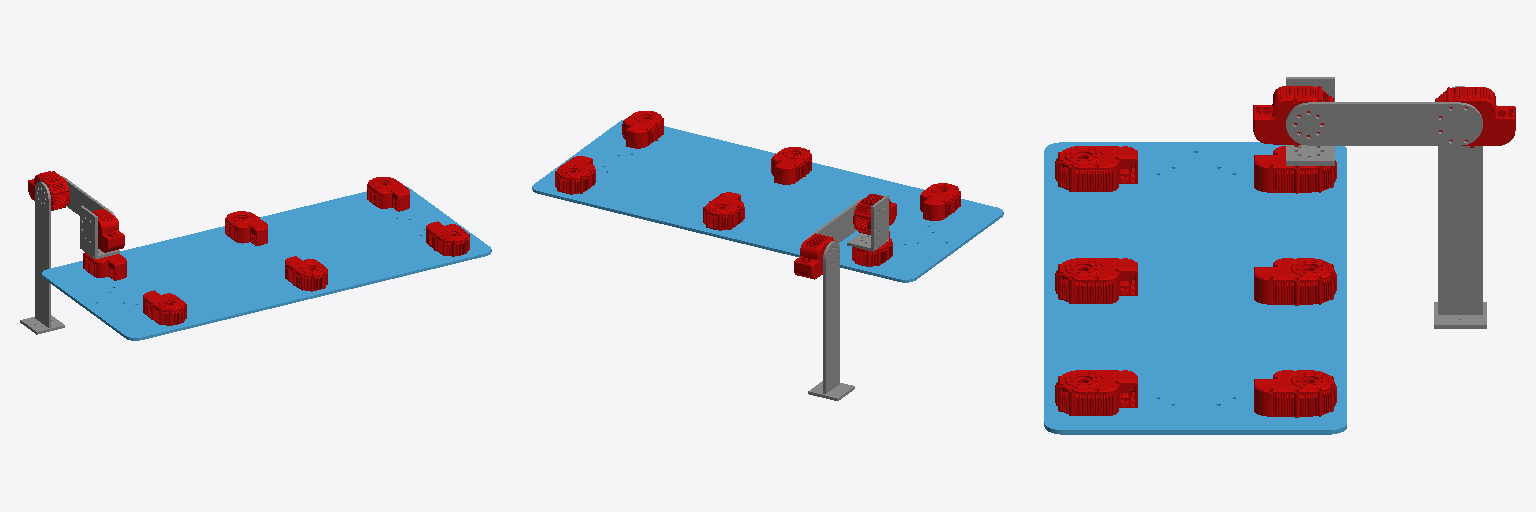
The robot description file, URDF, robot "hexapod":
<?xml version="1.0"?>

<robot name="hexapod">

  <material name="red">
    <color rgba=".82 0.06 0.06 1"/>
  </material>

  <material name="silver">
    <color rgba="0.6 0.6 0.6 1"/>
  </material>

  <link name="world">
  </link>

  <joint name="world_to_Base" type="fixed">
    <origin xyz="0 0 0" rpy="0 0 0" />
    <parent link="world"/>
    <child link="Base"/>
  </joint>

  <link name="Base">
    <inertial>
      <origin
        xyz="0 .200 0"
        rpy="1.57079632679 0 0" />
      <mass
        value="6.14101" />
      <inertia
        ixx="0.08151752649"
        ixy="0"
        ixz="0"
        iyy="0.49424148601"
        iyz="0"
        izz="0.41276522968" />
    </inertial>
    <visual>
      <origin
        xyz="0 .200 0"
        rpy="1.57079632679 0 0" />
      <geometry>
        <mesh
          filename="package://hexapod/urdf/stls/body.STL" scale=".001 .001 .001" />
      </geometry>
      <material
        name="">
        <color
          rgba="0.82421875 0.82421875 0.82421875" />
      </material>
    </visual>
    <collision>
      <origin
        xyz="0 .200 0"
        rpy="1.57079632679 0 0" />
      <geometry>
        <mesh
          filename="package://hexapod/urdf/stls/body.STL" scale=".001 .001 .001"/>
      </geometry>
    </collision>
  </link>

  <joint name="Base_to_Motor1" type="fixed">
    <origin xyz=".124 .149 0" rpy="0 0 1.57079632679" />
    <parent link="Base"/>
    <child link="Motor1"/>
    <axis xyz="0 0 1"/>
  </joint>

  <link name="Motor1">
    <visual>
      <origin
        xyz=".03705 .0365 0"
        rpy="0 0 3.14159265359" />
      <geometry>
        <mesh
          filename="package://hexapod/urdf/stls/X8Actuator.STL" scale=".001 .001 .001" />
      </geometry>
      <material
        name="red">
      </material>
    </visual>
    <collision>
      <origin
        xyz=".03705 .0365 0"
        rpy="0 0 3.14159265359" />
      <geometry>
        <mesh
          filename="package://hexapod/urdf/stls/X8Actuator.STL" scale=".001 .001 .001"/>
      </geometry>
    </collision>
  </link>

  <joint name="Base_to_Motor2" type="fixed">
    <origin xyz=".474 .149 0" rpy="0 0 1.57079632679" />
    <parent link="Base"/>
    <child link="Motor2"/>
    <axis xyz="0 0 1"/>
  </joint>

  <link name="Motor2">
    <visual>
      <origin
        xyz=".03705 .0365 0"
        rpy="0 0 3.14159265359" />
      <geometry>
        <mesh
          filename="package://hexapod/urdf/stls/X8Actuator.STL" scale=".001 .001 .001" />
      </geometry>
      <material
        name="red">
      </material>
    </visual>
    <collision>
      <origin
        xyz=".03705 .0365 0"
        rpy="0 0 3.14159265359" />
      <geometry>
        <mesh
          filename="package://hexapod/urdf/stls/X8Actuator.STL" scale=".001 .001 .001"/>
      </geometry>
    </collision>
  </link>

  <joint name="Base_to_Motor3" type="fixed">
    <origin xyz=".824 .149 0" rpy="0 0 1.57079632679" />
    <parent link="Base"/>
    <child link="Motor3"/>
    <axis xyz="0 0 1"/>
  </joint>

  <link name="Motor3">
    <visual>
      <origin
        xyz=".03705 .0365 0"
        rpy="0 0 3.14159265359" />
      <geometry>
        <mesh
          filename="package://hexapod/urdf/stls/X8Actuator.STL" scale=".001 .001 .001" />
      </geometry>
      <material
        name="red">
      </material>
    </visual>
    <collision>
      <origin
        xyz=".03705 .0365 0"
        rpy="0 0 3.14159265359" />
      <geometry>
        <mesh
          filename="package://hexapod/urdf/stls/X8Actuator.STL" scale=".001 .001 .001"/>
      </geometry>
    </collision>
  </link>

  <joint name="Base_to_Motor4" type="fixed">
    <origin xyz=".824 -.149 0" rpy="0 0 1.57079632679" />
    <parent link="Base"/>
    <child link="Motor4"/>
    <axis xyz="0 0 1"/>
  </joint>

  <link name="Motor4">
    <visual>
      <origin
        xyz="-.03705 -.0365 0"
        rpy="0 0 0" />
      <geometry>
        <mesh
          filename="package://hexapod/urdf/stls/X8Actuator.STL" scale=".001 .001 .001" />
      </geometry>
      <material
        name="red">
      </material>
    </visual>
    <collision>
      <origin
        xyz="-.03705 -.0365 0"
        rpy="0 0 0" />
      <geometry>
        <mesh
          filename="package://hexapod/urdf/stls/X8Actuator.STL" scale=".001 .001 .001"/>
      </geometry>
    </collision>
  </link>

  <joint name="Base_to_Motor5" type="fixed">
    <origin xyz=".474 -.149 0" rpy="0 0 1.57079632679" />
    <parent link="Base"/>
    <child link="Motor5"/>
    <axis xyz="0 0 1"/>
  </joint>

  <link name="Motor5">
    <visual>
      <origin
        xyz="-.03705 -.0365 0"
        rpy="0 0 0" />
      <geometry>
        <mesh
          filename="package://hexapod/urdf/stls/X8Actuator.STL" scale=".001 .001 .001" />
      </geometry>
      <material
        name="red">
      </material>
    </visual>
    <collision>
      <origin
        xyz="-.03705 -.0365 0"
        rpy="0 0 0" />
      <geometry>
        <mesh
          filename="package://hexapod/urdf/stls/X8Actuator.STL" scale=".001 .001 .001"/>
      </geometry>
    </collision>
  </link>

  <joint name="Base_to_Motor6" type="fixed">
    <origin xyz=".124 -.149 0" rpy="0 0 1.57079632679" />
    <parent link="Base"/>
    <child link="Motor6"/>
    <axis xyz="0 0 1"/>
  </joint>

  <link name="Motor6">
    <visual>
      <origin
        xyz="-.03705 -.0365 0"
        rpy="0 0 0" />
      <geometry>
        <mesh
          filename="package://hexapod/urdf/stls/X8Actuator.STL" scale=".001 .001 .001" />
      </geometry>
      <material
        name="red">
      </material>
    </visual>
    <collision>
      <origin
        xyz="-.03705 -.0365 0"
        rpy="0 0 0" />
      <geometry>
        <mesh
          filename="package://hexapod/urdf/stls/X8Actuator.STL" scale=".001 .001 .001"/>
      </geometry>
    </collision>
  </link>

  <joint name="Motor1_to_JointPlate21" type="continuous">
    <origin xyz="0 0 .05145" rpy="0 0 3.14159265359" />
    <parent link="Motor1"/>
    <child link="JointPlate21"/>
    <axis xyz="0 0 1"/>
  </joint>

  <link name="JointPlate21">
    <visual>
      <origin
        xyz="-.0350 -.02255 -.00635"
        rpy="0 0 0" />
      <geometry>
        <mesh
          filename="package://hexapod/urdf/stls/jointPlate2.STL" scale=".001 .001 .001" />
      </geometry>
      <material
        name="silver">
      </material>
    </visual>
    <collision>
      <origin
        xyz="-.035 -.02255 -.00635"
        rpy="0 0 0" />
      <geometry>
        <mesh
          filename="package://hexapod/urdf/stls/jointPlate2.STL" scale=".001 .001 .001"/>
      </geometry>
    </collision>
  </link>

  <joint name="JointPlate21_to_JointPlate11" type="fixed">
    <origin xyz="0 0 .093825" rpy="0 3.14159265359 0" />
    <parent link="JointPlate21"/>
    <child link="JointPlate11"/>
    <axis xyz="0 0 1"/>
  </joint>

  <link name="JointPlate11">
    <visual>
      <origin
        xyz="-.03 -.02890 0"
        rpy="0 0 0" />
      <geometry>
        <mesh
          filename="package://hexapod/urdf/stls/jointPlate1.STL" scale=".001 .001 .001" />
      </geometry>
      <material
        name="silver">
      </material>
    </visual>
    <collision>
      <origin
        xyz="-.03 -.02890 0"
        rpy="0 0 0" />
      <geometry>
        <mesh
          filename="package://hexapod/urdf/stls/jointPlate1.STL" scale=".001 .001 .001"/>
      </geometry>
    </collision>
  </link>

  <joint name="JointPlate11_to_FemurMotor" type="fixed">
    <origin xyz="0 0 .0425" rpy="-1.57079632679 3.14159265359 0" />
    <parent link="JointPlate11"/>
    <child link="FemurMotor"/>
    <axis xyz="0 0 1"/>
  </joint>

  <link name="FemurMotor">
    <visual>
      <origin
        xyz="-.0365 -.03705 -.02255"
        rpy="0 0 0" />
      <geometry>
        <mesh
          filename="package://hexapod/urdf/stls/X8Actuator.STL" scale=".001 .001 .001" />
      </geometry>
      <material
        name="red">
      </material>
    </visual>
    <collision>
      <origin
        xyz="-.0365 -.03705 -.02890"
        rpy="0 0 0" />
      <geometry>
        <mesh
          filename="package://hexapod/urdf/stls/X8Actuator.STL" scale=".001 .001 .001"/>
      </geometry>
    </collision>
  </link>

  <joint name="FemurMotor_to_LegUpper1" type="continuous">
    <origin xyz="0 0 .02275" rpy="0 -1.57079632679 -3.14159265359" />
    <parent link="FemurMotor"/>
    <child link="LegUpper1"/>
    <axis xyz="1 0 0"/>
  </joint>

  <link name="LegUpper1">
    <visual>
      <origin
        xyz="0 -.03 -.230"
        rpy="0 0 0" />
      <geometry>
        <mesh
          filename="package://hexapod/urdf/stls/legUpper.STL" scale=".001 .001 .001" />
      </geometry>
      <material
        name="silver">
      </material>
    </visual>
    <collision>
      <origin
        xyz="0 -.03 -.230"
        rpy="0 0 0" />
      <geometry>
        <mesh
          filename="package://hexapod/urdf/stls/legUpper.STL" scale=".001 .001 .001"/>
      </geometry>
    </collision>
  </link>

  <joint name="LegUpper1_to_TibiaMotor1" type="fixed">
    <origin xyz="0 0 -.200" rpy="0 1.57079632679 -3.14159265359" />
    <parent link="LegUpper1"/>
    <child link="TibiaMotor1"/>
    <axis xyz="0 0 1"/>
  </joint>

  <link name="TibiaMotor1">
    <visual>
      <origin
        xyz="-.03705 -.0365 0"
        rpy="0 0 0" />
      <geometry>
        <mesh
          filename="package://hexapod/urdf/stls/X8Actuator.STL" scale=".001 .001 .001" />
      </geometry>
      <material
        name="red">
      </material>
    </visual>
    <collision>
      <origin
        xyz="-.03705 -.0365 0"
        rpy="0 0 0" />
      <geometry>
        <mesh
          filename="package://hexapod/urdf/stls/X8Actuator.STL" scale=".001 .001 .001"/>
      </geometry>
    </collision>
  </link>

  <joint name="TibiaMotor1_to_LegLower1" type="continuous">
    <origin xyz="0 0 .05145" rpy="0 1.57079632679 1.57079632679" />
    <parent link="TibiaMotor1"/>
    <child link="LegLower1"/>
    <axis xyz="1 0 0"/>
  </joint>

  <link name="LegLower1">
    <visual>
      <origin
        xyz="0 .03 .3"
        rpy="3.14159265359 0 0" />
      <geometry>
        <mesh
          filename="package://hexapod/urdf/stls/legLower.STL" scale=".001 .001 .001" />
      </geometry>
      <material
        name="silver">
      </material>
    </visual>
    <collision>
      <origin
        xyz="0 .03 .3"
        rpy="3.14159265359 0 0" />
      <geometry>
        <mesh
          filename="package://hexapod/urdf/stls/legLower.STL" scale=".001 .001 .001"/>
      </geometry>
    </collision>
  </link>

  <joint name="LegLower1_to_Foot1" type="fixed">
    <origin xyz="0 0 .3" rpy="0 3.14159265359 0" />
    <parent link="LegLower1"/>
    <child link="Foot1"/>
    <axis xyz="0 0 1"/>
  </joint>

  <link name="Foot1">
    <visual>
      <origin
        xyz="-.038175 .035 -.00635"
        rpy="1.57079632679 0 0" />
      <geometry>
        <mesh
          filename="package://hexapod/urdf/stls/foot.STL" scale=".001 .001 .001" />
      </geometry>
      <material
        name="silver">
      </material>
    </visual>
    <collision>
      <origin
        xyz="-.038175 .035 -.00635"
        rpy="0 0 0" />
      <geometry>
        <mesh
          filename="package://hexapod/urdf/stls/foot.STL" scale=".001 .001 .001"/>
      </geometry>
    </collision>
  </link>


</robot>

--- What the picture shows (computed from the rendered views, not written in the file) ---
The picture shows the robot from 3 angles, left to right: view 1: azimuth 30°, elevation 25°; view 2: azimuth 150°, elevation 25°; view 3: azimuth 270°, elevation 25°; orthographic projection.
Robot: hexapod — 15 links, 14 joints (3 continuous, 11 fixed); root link world; default pose: every joint at zero.
Links seen in each view (by area): view 1: Base, LegLower1, Motor4, Motor6, Motor2, Motor5, Motor3, FemurMotor, TibiaMotor1, Motor1, JointPlate11, LegUpper1; view 2: Base, LegLower1, Motor2, Motor4, Motor3, Motor5, Motor6, TibiaMotor1, JointPlate11, LegUpper1, FemurMotor, Motor1; view 3: Base, LegUpper1, LegLower1, Motor2, Motor3, Motor5, Motor4, Motor6, Motor1, FemurMotor, TibiaMotor1, JointPlate21 (+2 smaller).
Link boxes in pixels (x1,y1,x2,y2): Base: (42, 185, 491, 340); LegLower1: (35, 181, 50, 327); Motor4: (426, 221, 469, 256); Motor6: (143, 290, 186, 325); Motor2: (225, 211, 267, 245); Motor5: (285, 256, 327, 291); Motor3: (367, 177, 409, 211); FemurMotor: (92, 209, 124, 252); TibiaMotor1: (28, 171, 69, 210); Motor1: (83, 252, 126, 280); JointPlate11: (80, 205, 97, 258); LegUpper1: (61, 176, 115, 216); Base: (532, 119, 1003, 282); LegLower1: (823, 241, 839, 393); Motor2: (703, 192, 744, 230); Motor4: (622, 111, 663, 148); Motor3: (555, 156, 595, 194); Motor5: (771, 147, 811, 184); Motor6: (920, 183, 960, 220); TibiaMotor1: (794, 233, 836, 279); JointPlate11: (871, 195, 888, 251); LegUpper1: (806, 200, 860, 242); FemurMotor: (853, 194, 896, 234); Motor1: (852, 231, 892, 266); Base: (1044, 142, 1346, 434); LegUpper1: (1286, 102, 1482, 145); LegLower1: (1438, 86, 1482, 314); Motor2: (1254, 258, 1336, 305); Motor3: (1254, 370, 1336, 417); Motor5: (1055, 258, 1137, 303); Motor4: (1055, 370, 1137, 415); Motor6: (1055, 146, 1137, 191); Motor1: (1254, 146, 1336, 193); FemurMotor: (1253, 86, 1333, 146); TibiaMotor1: (1435, 87, 1515, 147); JointPlate21: (1286, 145, 1334, 165).
Size in the robot's own frame: 0.9 by 0.622 by 0.3489 metres.
Meshes: 7 distinct files referenced, 14 mesh visuals loaded (7 binary STL).